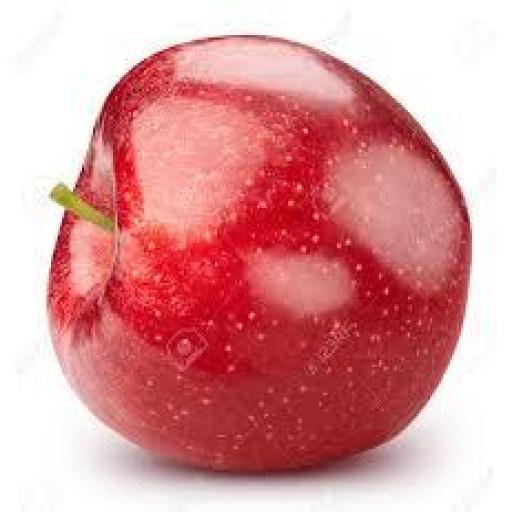apple: (49, 38, 469, 469)
